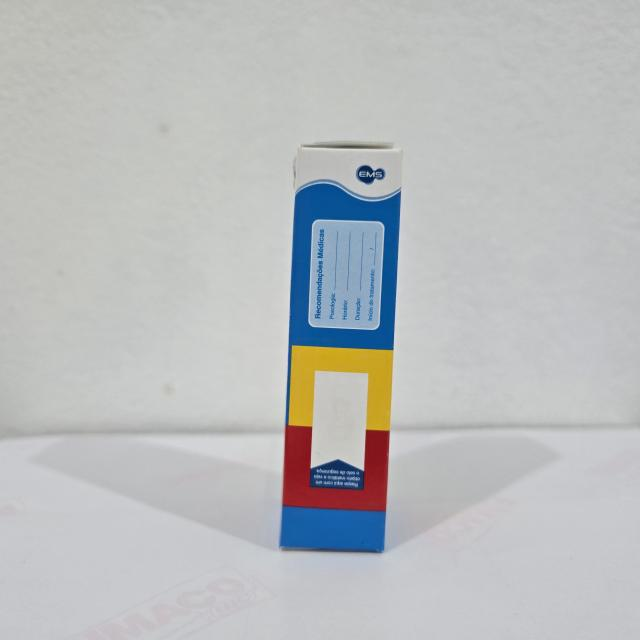prednisona: (276, 135, 406, 559)
